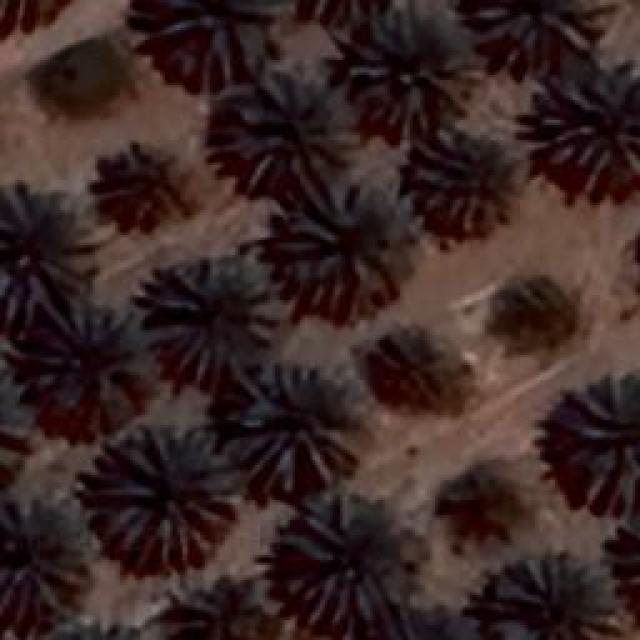PalmTree: (125, 68, 484, 503), (88, 79, 219, 606), (90, 422, 235, 568), (137, 255, 285, 390), (345, 2, 485, 140), (280, 495, 408, 630), (215, 67, 350, 195), (272, 182, 390, 320), (230, 362, 352, 490), (31, 312, 151, 426), (410, 122, 530, 235), (0, 188, 95, 330), (480, 547, 622, 635), (530, 58, 638, 172), (90, 130, 205, 235), (128, 0, 276, 75), (0, 500, 88, 618), (568, 370, 638, 515), (482, 278, 582, 360), (467, 0, 610, 52), (370, 334, 455, 412), (0, 363, 30, 496), (607, 503, 640, 621), (366, 610, 484, 640), (34, 615, 158, 640), (284, 0, 401, 23), (366, 620, 484, 640), (0, 0, 77, 29)
